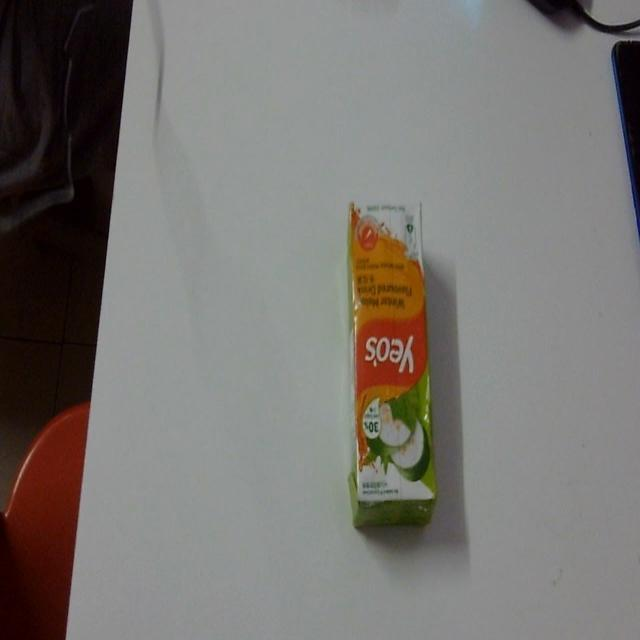plastic_laydown_90rotation: (333, 188, 446, 542)
